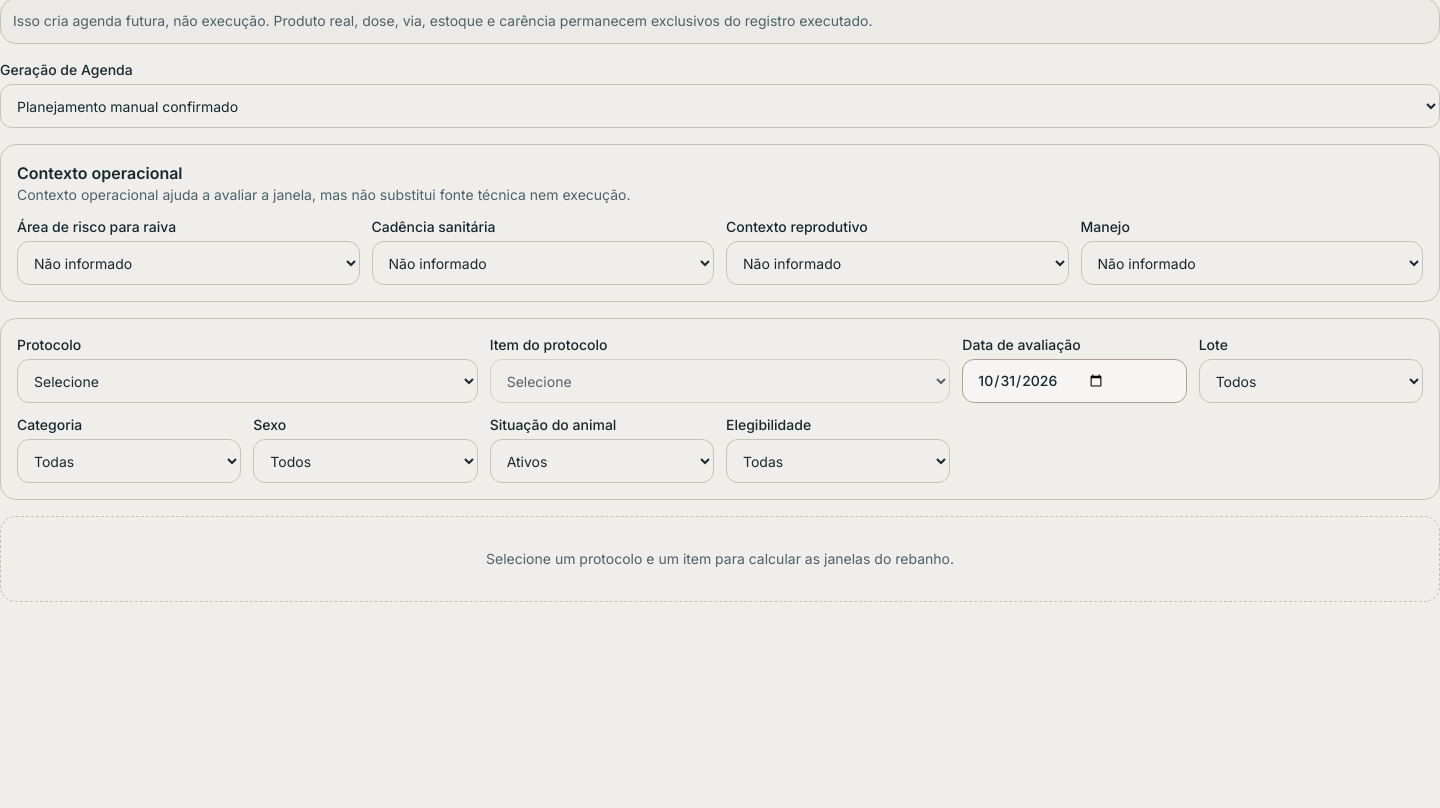
it: SanitaryProtocolWindowPanelV2 › filtra por card, seleciona somente elegíveis visíveis e mantém seleção ao ordenar
Select "Brucelose B19" in the dropdown named "Selecionar protocolo" at (247,381), box [17,359,478,403]
Select "B19 — fêmeas de 3 a 8 meses" in the dropdown named "Selecionar item do protocolo" at (720,381), box [490,359,950,403]
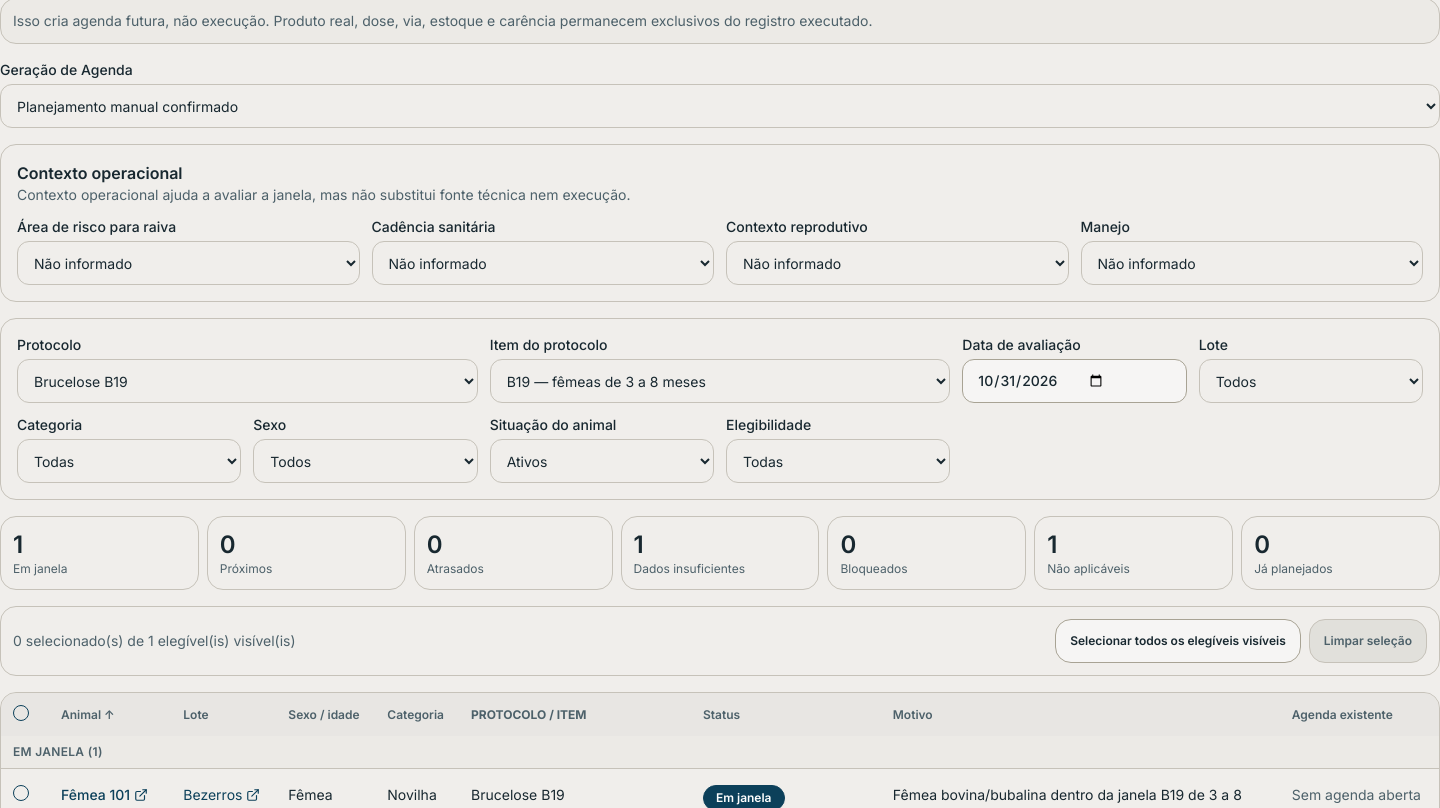
Type "2026-07-04" into the date field labelled "Data de avaliação" at (1074,381), box [962,359,1187,403]
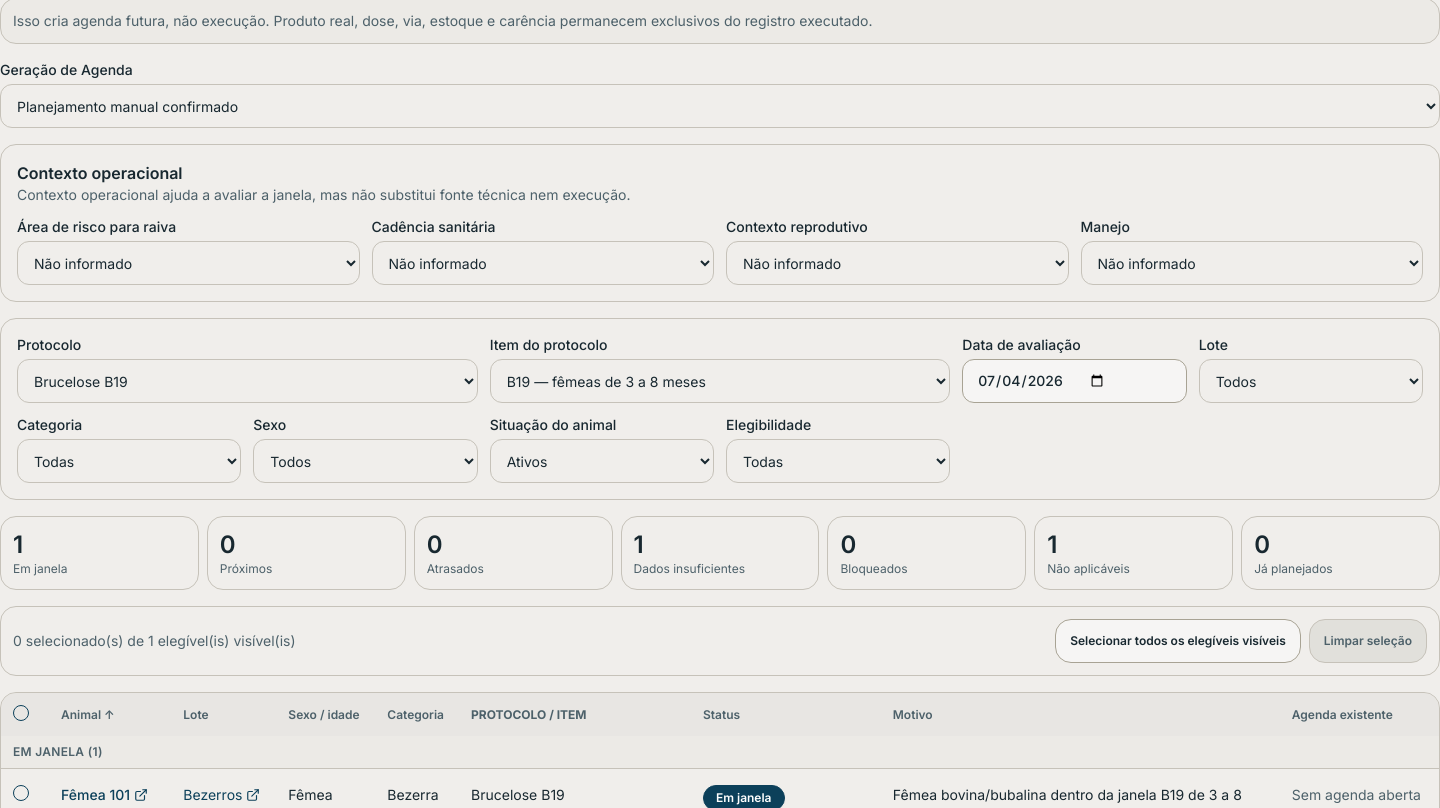
Click the button "1 Em janela" at (99,553), box [0,516,199,590]
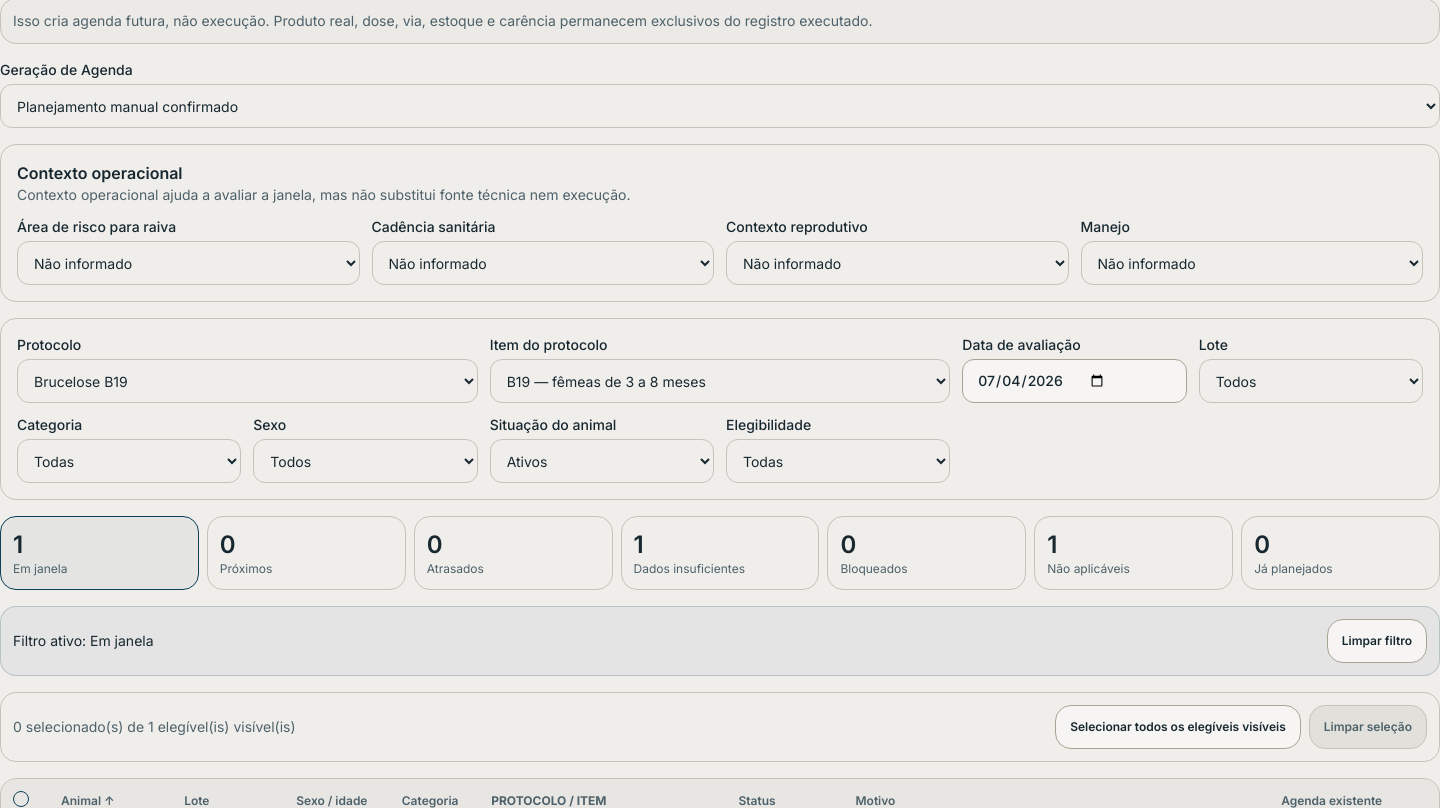
Expected: the text "Filtro ativo: Em janela" is shown, [13,631,154,651]
Click the button "Selecionar todos os elegíveis visíveis" at (1178,727), box [1055,705,1301,749]
(page scrolled)
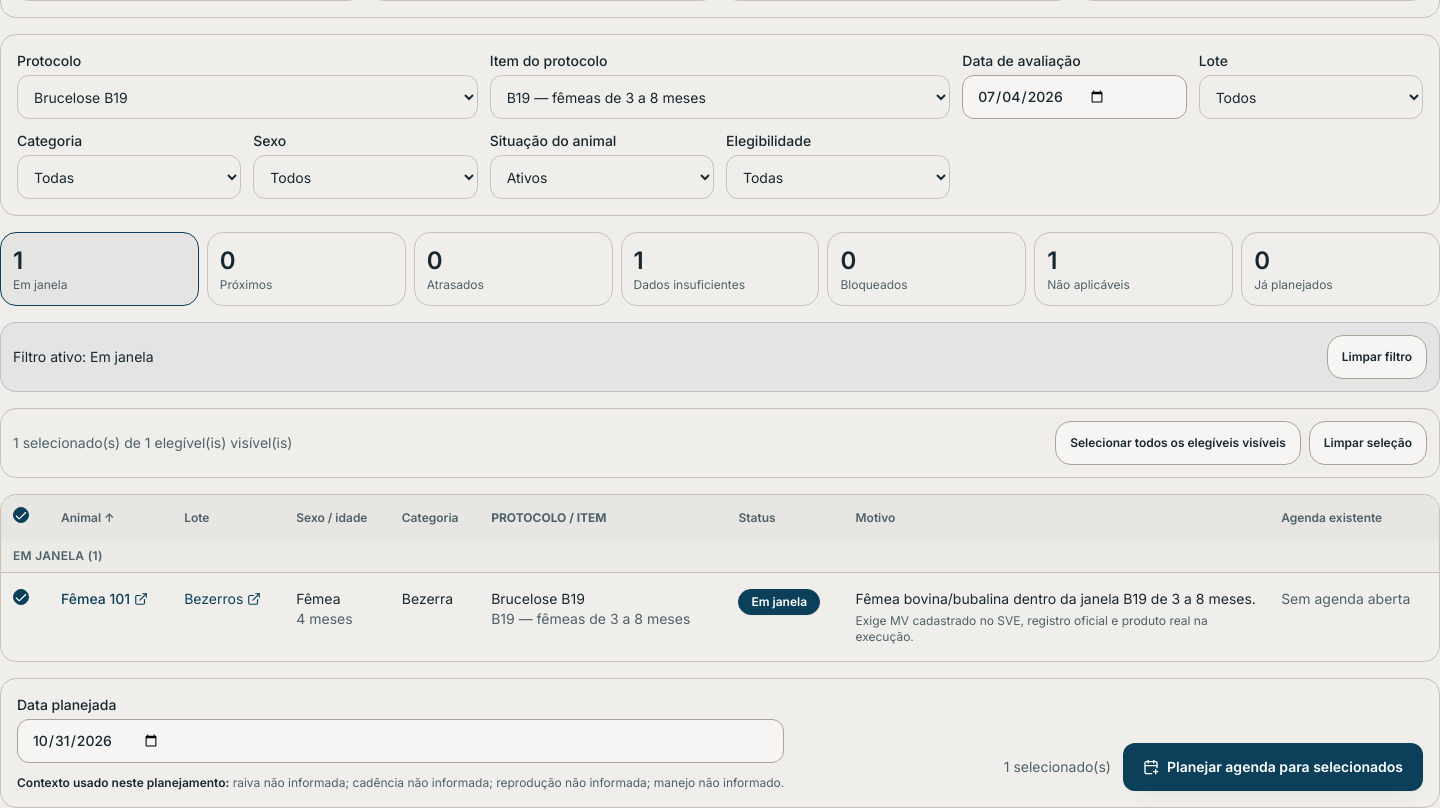
Expected: the text "Macho 202" is not shown
Expected: the checkbox named "Selecionar Fêmea 101" is checked, [13,589,29,605]
Click the button "Animal ↑" at (88,518), box [61,510,115,526]
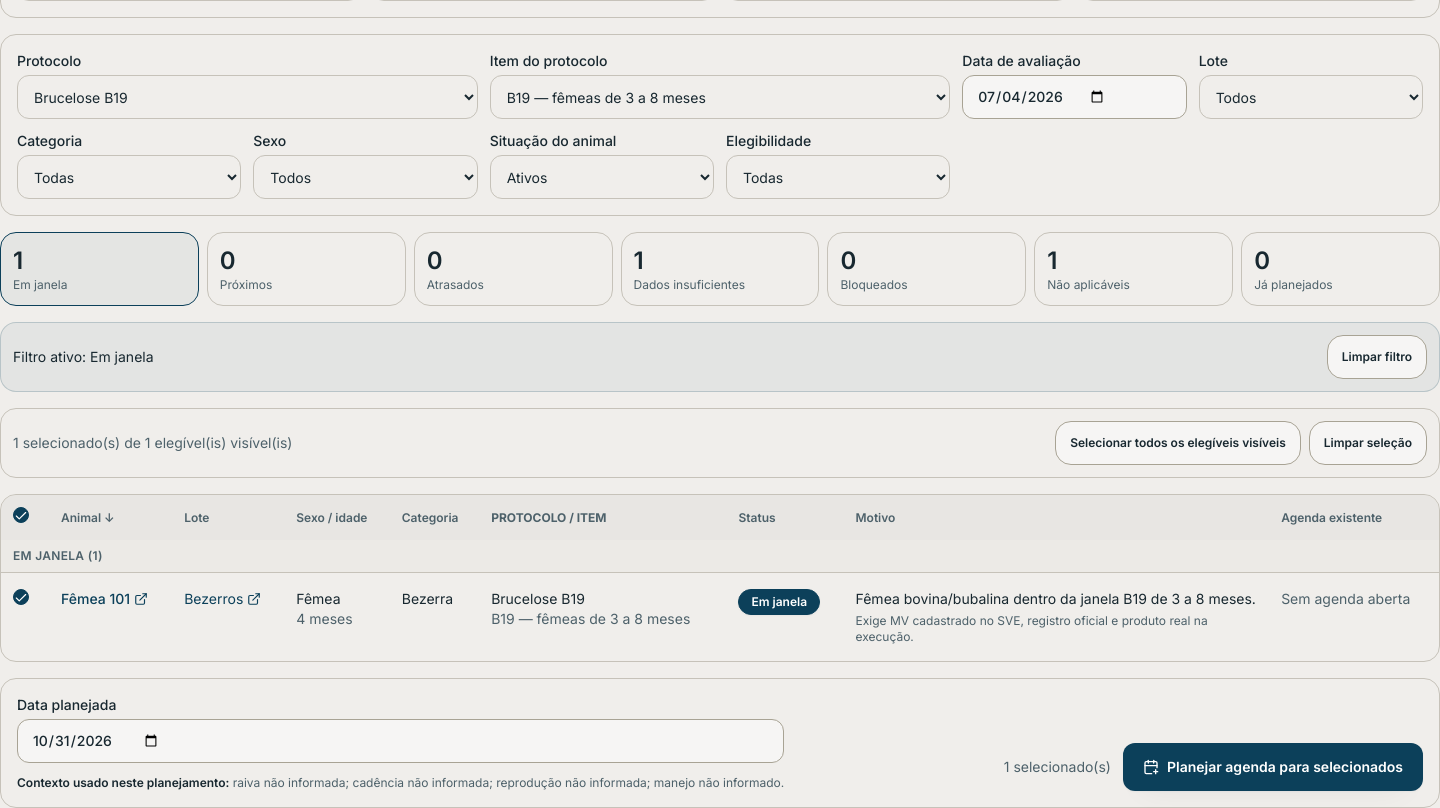
Expected: the checkbox named "Selecionar Fêmea 101" is checked, [13,589,29,605]
Click the button "Limpar filtro" at (1377,357), box [1327,335,1427,379]
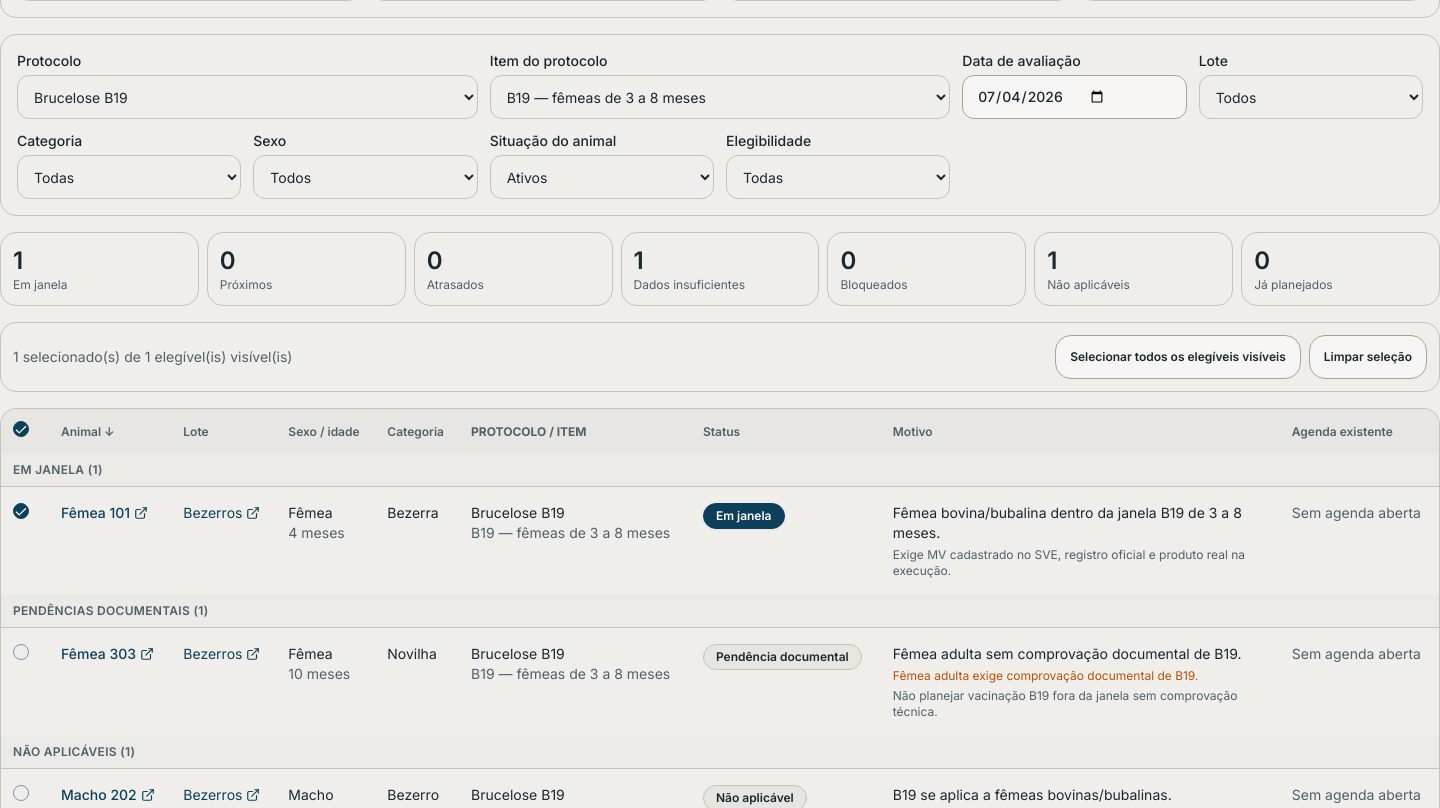
Expected: the link "Macho 202" is shown, [61,785,155,805]
